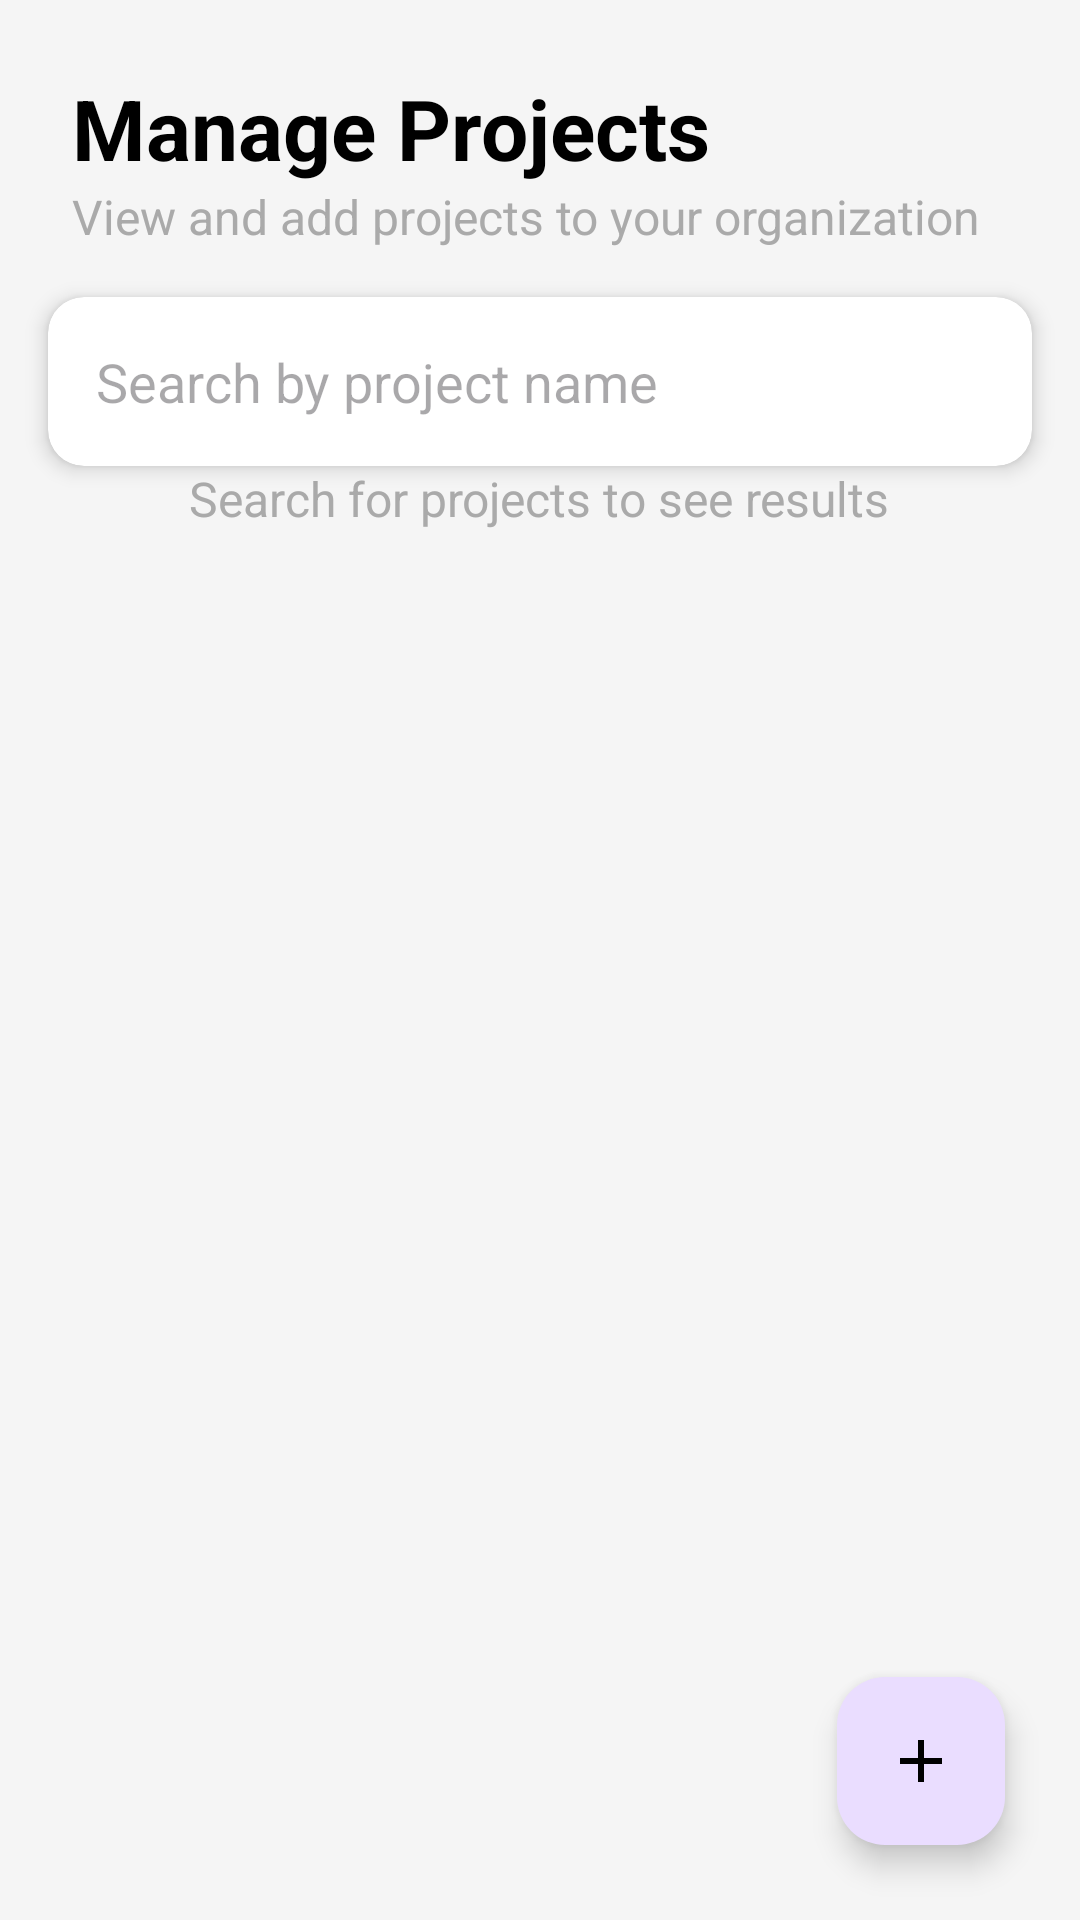

Icons on this 1080w x 1920h Android screen, each with its box as (x1, y1, x2, y2):
Add New Project: (837, 1677, 1005, 1845)
